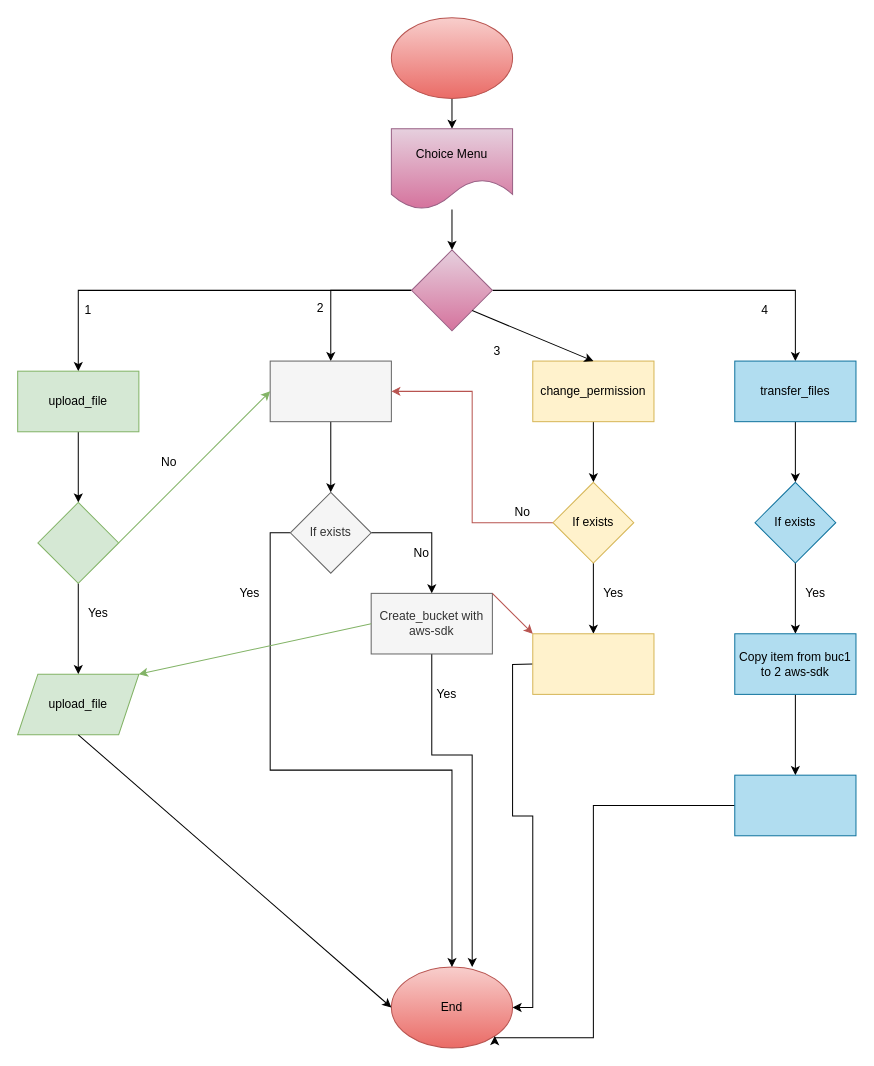
Image size: 874x1066. Some labels were removed from this diagram. The centre of each missing label's shape, as x and y in pixels:
"Bucket Exists" goes at pixel 78 542.
"Chnage permission aws-sdk" goes at pixel 593 663.
"Choice Check" goes at pixel 451 290.
"create_bucket" goes at pixel 330 391.
"Delete item from buc 1 aws-sdk" goes at pixel 795 805.
"START" goes at pixel 451 57.
